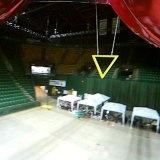Yellow_Triangle_Gshape: (90, 54, 117, 79)
